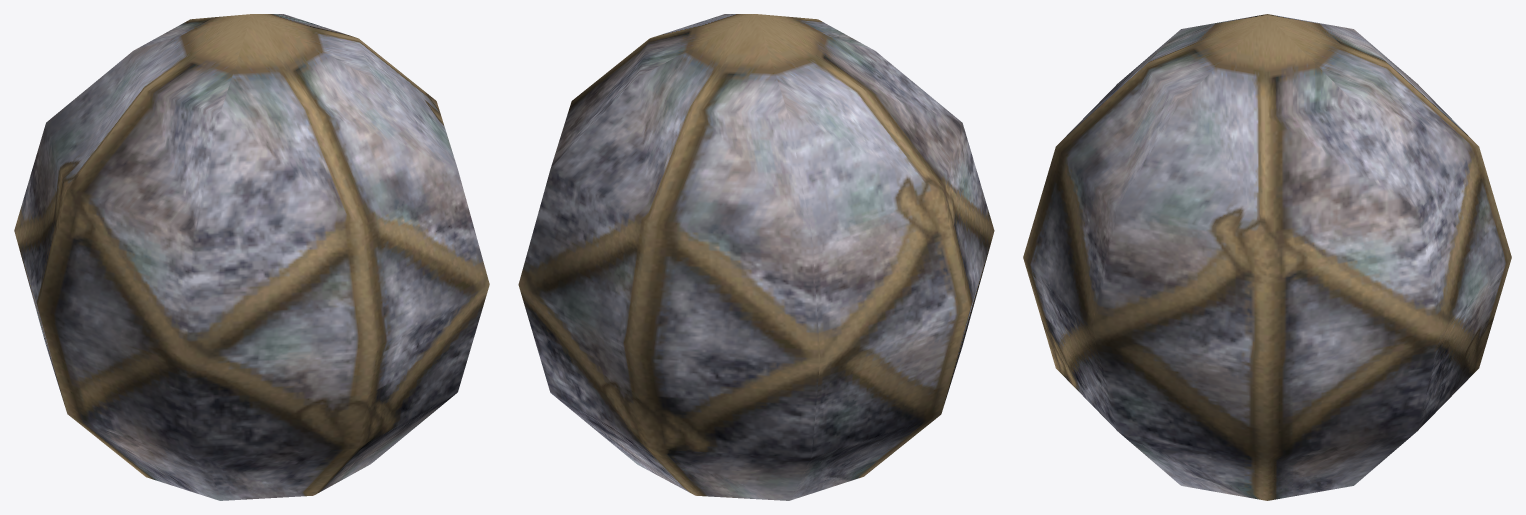
File: rock_on_rope.glb
The picture shows the model from 3 angles, left to right: view 1: azimuth 30°, elevation 25°; view 2: azimuth 150°, elevation 25°; view 3: azimuth 270°, elevation 25°; orthographic projection.
Visible parts, largest first — view 1: rock_on_rope; view 2: rock_on_rope; view 3: rock_on_rope.
Part boxes in pixels (x1,y1,x2,y2): rock_on_rope: (14,14,489,500); rock_on_rope: (518,14,994,500); rock_on_rope: (1023,14,1511,500).
Bounding box in the file's own units: 2.18 × 2.28 × 2.18.
1 material, 1 textured.
